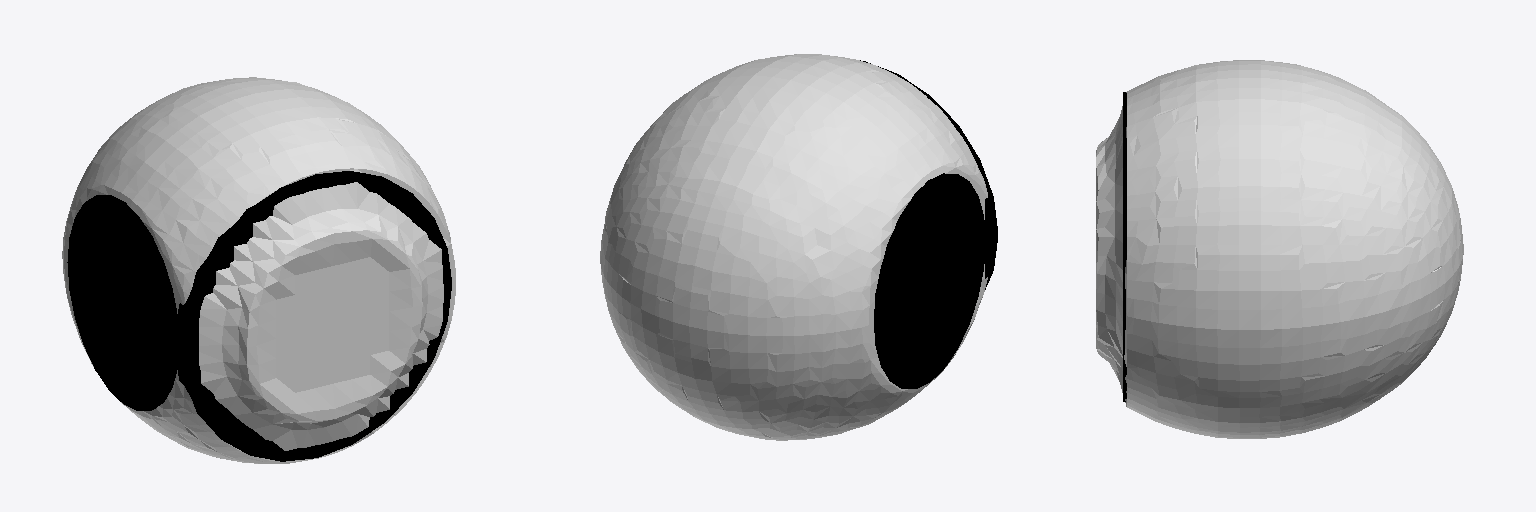
The model's file is lbr3_j6.obj.
3 views of the same model, side by side, from view 1: azimuth 30°, elevation 25°; view 2: azimuth 150°, elevation 25°; view 3: azimuth 270°, elevation 25° (orthographic).
Parts seen in each view (by area): view 1: Entity_link__6, Default_2_link__7, Default_1_link__6; view 2: Entity_link__6, Default_2_link__7, Default_1_link__6; view 3: Entity_link__6, Default_1_link__6.
Boxes of the visible parts, box(x1,y1,x2,y2) form: Entity_link__6: box(62, 77, 455, 463); Default_2_link__7: box(67, 195, 177, 410); Default_1_link__6: box(174, 171, 451, 461); Entity_link__6: box(600, 54, 987, 440); Default_2_link__7: box(874, 173, 985, 388); Default_1_link__6: box(860, 60, 997, 289); Entity_link__6: box(1096, 60, 1463, 438); Default_1_link__6: box(1123, 92, 1126, 401).
Bounding box in the file's own units: 0.089 × 0.0963 × 0.0933.